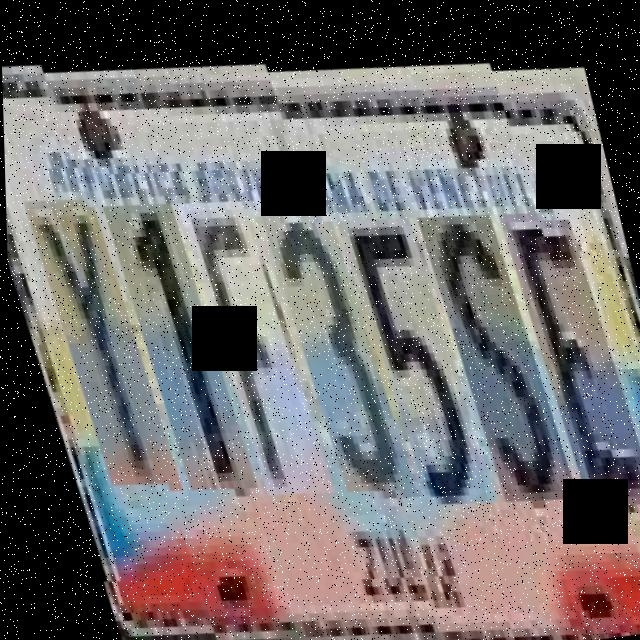1: (99, 185, 250, 498)
3: (256, 189, 405, 494)
5: (333, 183, 483, 496)
E: (489, 171, 640, 484)
F: (174, 180, 324, 500)
S: (408, 176, 564, 491)
Y: (22, 190, 172, 504)
